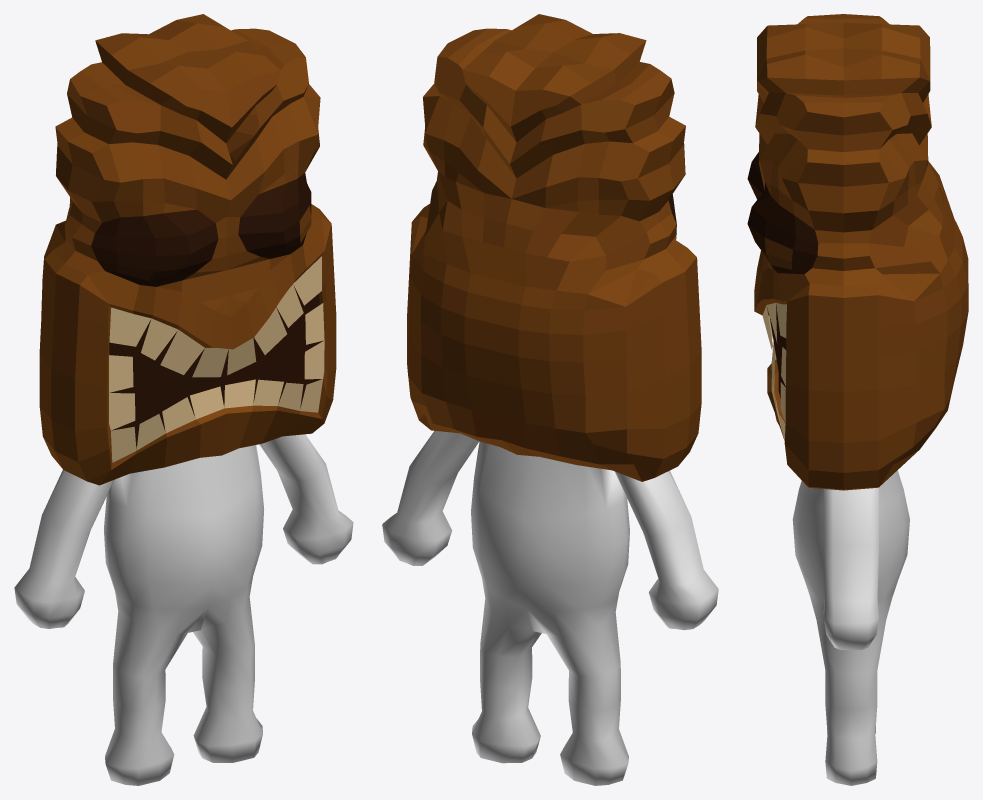
The model's file is tikitiki.fbx.
The picture shows the model from 3 angles, left to right: view 1: azimuth 30°, elevation 25°; view 2: azimuth 150°, elevation 25°; view 3: azimuth 270°, elevation 25°; orthographic projection.
Visible parts, largest first — view 1: Cube, Cube.001; view 2: Cube, Cube.001; view 3: Cube, Cube.001.
Part boxes in pixels (left/top/right/bottom): Cube: left=39, top=14, right=336, bottom=485; Cube.001: left=14, top=434, right=353, bottom=785; Cube: left=407, top=14, right=701, bottom=481; Cube.001: left=382, top=431, right=718, bottom=785; Cube: left=747, top=14, right=968, bottom=490; Cube.001: left=792, top=470, right=909, bottom=785.
Bounding box in the file's own units: 1.9 × 4.06 × 1.15.
